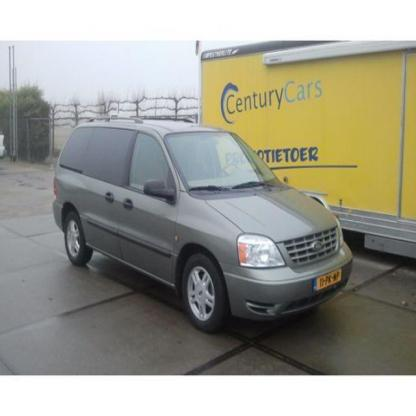Vehicle: (52, 115, 356, 328)
